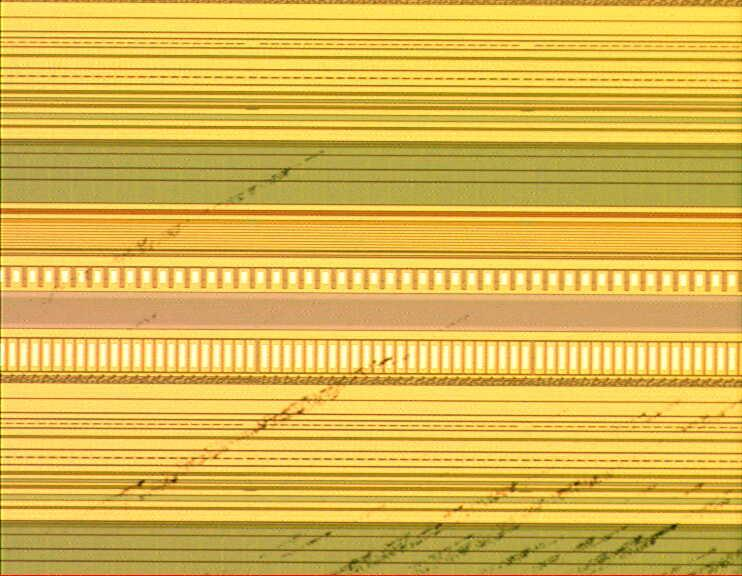SCRATCH: (5, 138, 742, 576)
